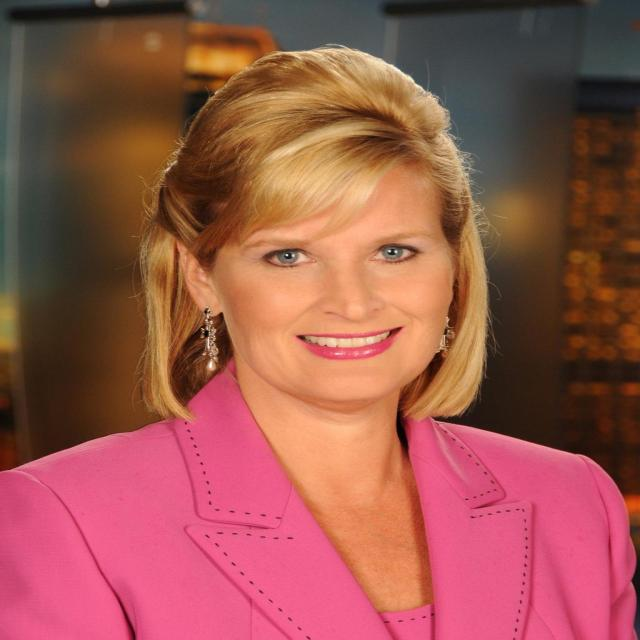Face: (197, 132, 458, 415)
